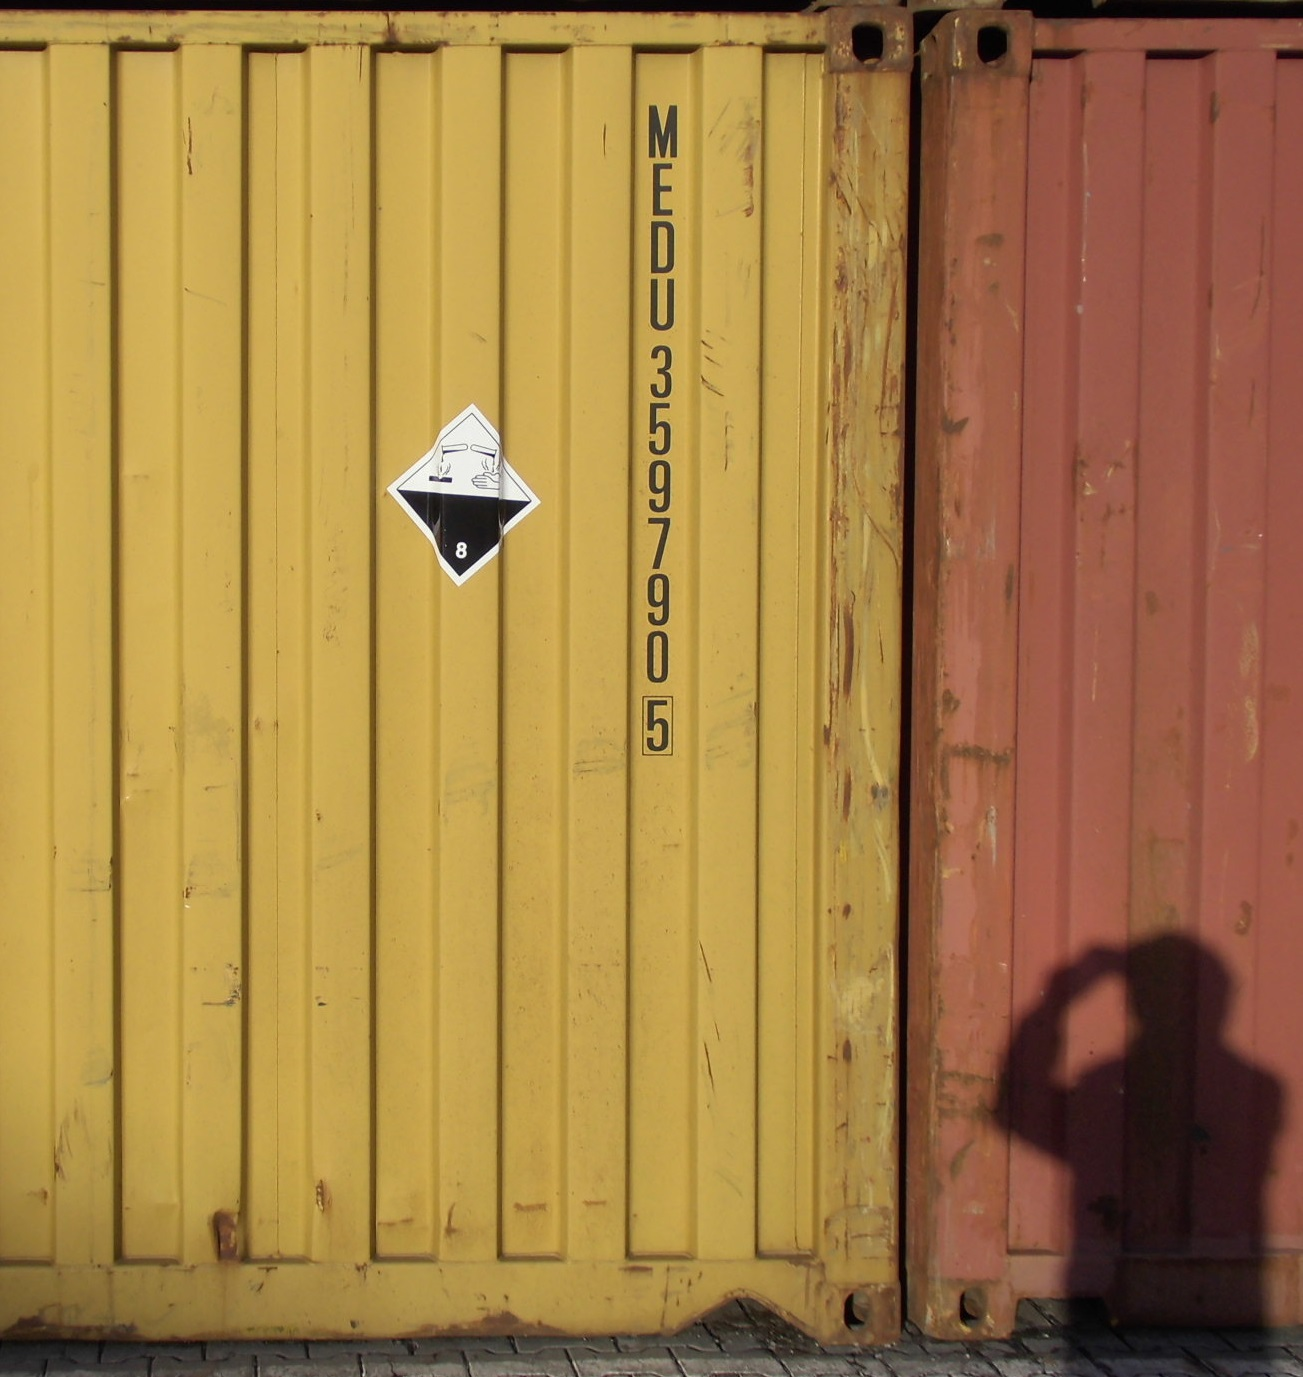container_no_door: (1, 10, 918, 1343), (905, 6, 1303, 1343)
